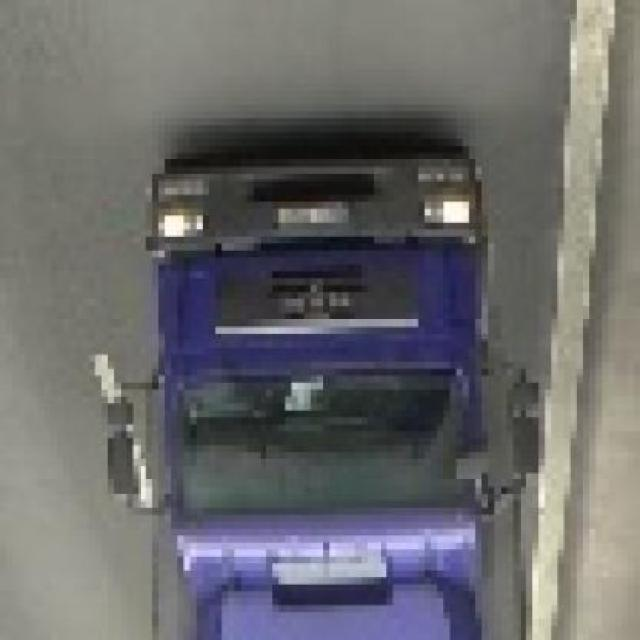truck: (103, 139, 540, 640)
